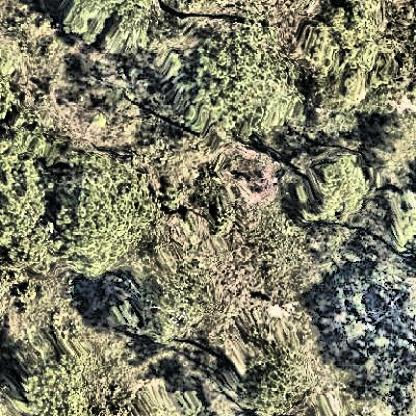tree-top: (54, 154, 159, 279), (185, 20, 300, 133), (307, 9, 390, 109), (298, 148, 382, 225), (52, 1, 162, 57), (1, 132, 53, 242), (17, 349, 81, 416), (134, 283, 199, 341), (241, 361, 301, 412), (1, 43, 27, 121), (381, 190, 416, 247)
